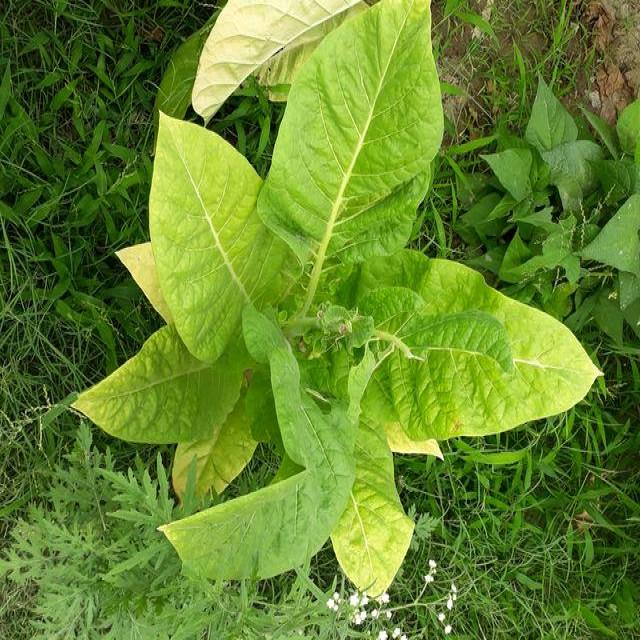crop: (72, 3, 596, 596)
